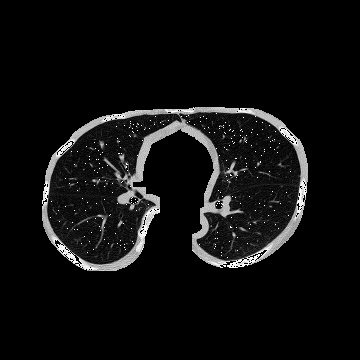PN: (98, 141, 104, 147)
